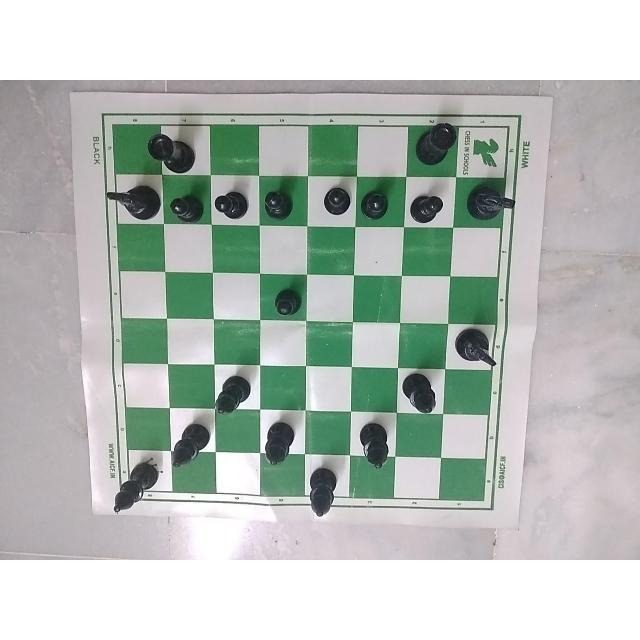black-bishop: (299, 463, 353, 526), (108, 462, 162, 518), (356, 414, 395, 473), (209, 371, 253, 422), (399, 370, 441, 421), (170, 417, 206, 475), (262, 415, 298, 471)
black-knight: (450, 326, 507, 378), (464, 180, 522, 228), (109, 178, 157, 220)
black-pawn: (403, 187, 447, 227), (211, 181, 255, 218), (266, 284, 310, 320), (166, 188, 205, 224), (262, 183, 298, 221), (362, 183, 398, 219), (322, 185, 354, 219)
black-rook: (141, 127, 201, 174), (415, 116, 461, 168)
